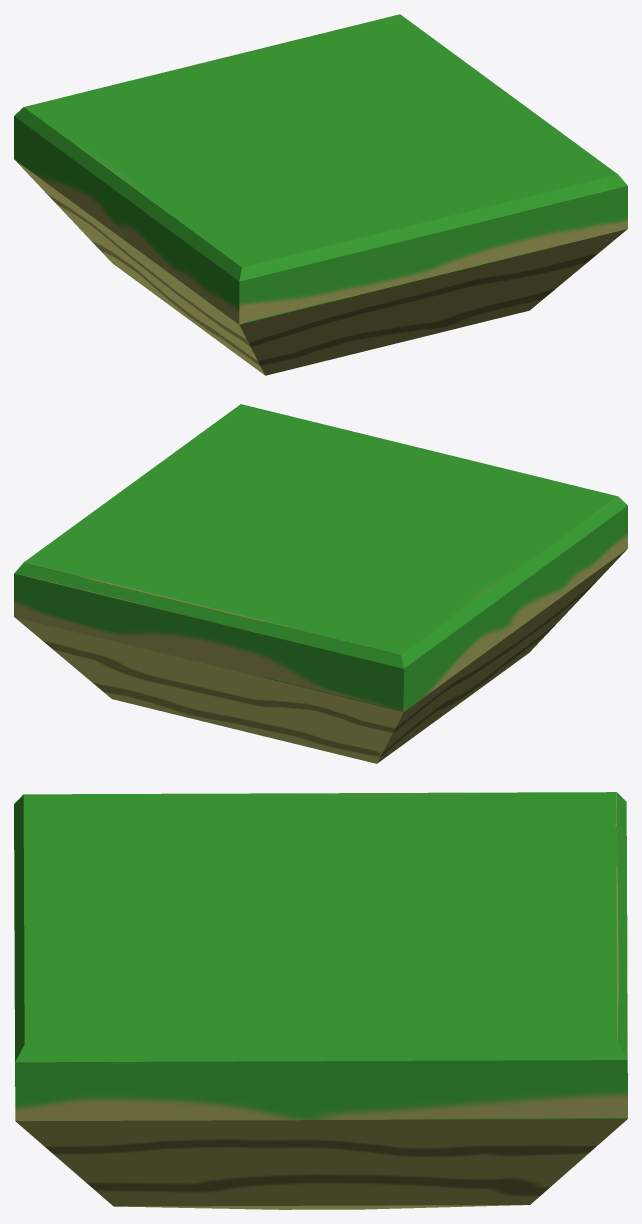
The model's file is plat2x2.obj.
3 views of the same model, one above another, from view 1: azimuth 30°, elevation 25°; view 2: azimuth 150°, elevation 25°; view 3: azimuth 270°, elevation 25° (orthographic). The views are drawn at different scales.
Parts seen in each view (by area): view 1: Cube; view 2: Cube; view 3: Cube.
Boxes of the visible parts, box(x1,y1,x2,y2) form: Cube: box(14, 14, 627, 375); Cube: box(14, 404, 627, 763); Cube: box(14, 792, 627, 1209).
Bounding box in the file's own units: 4.01 × 1.98 × 4.01.
